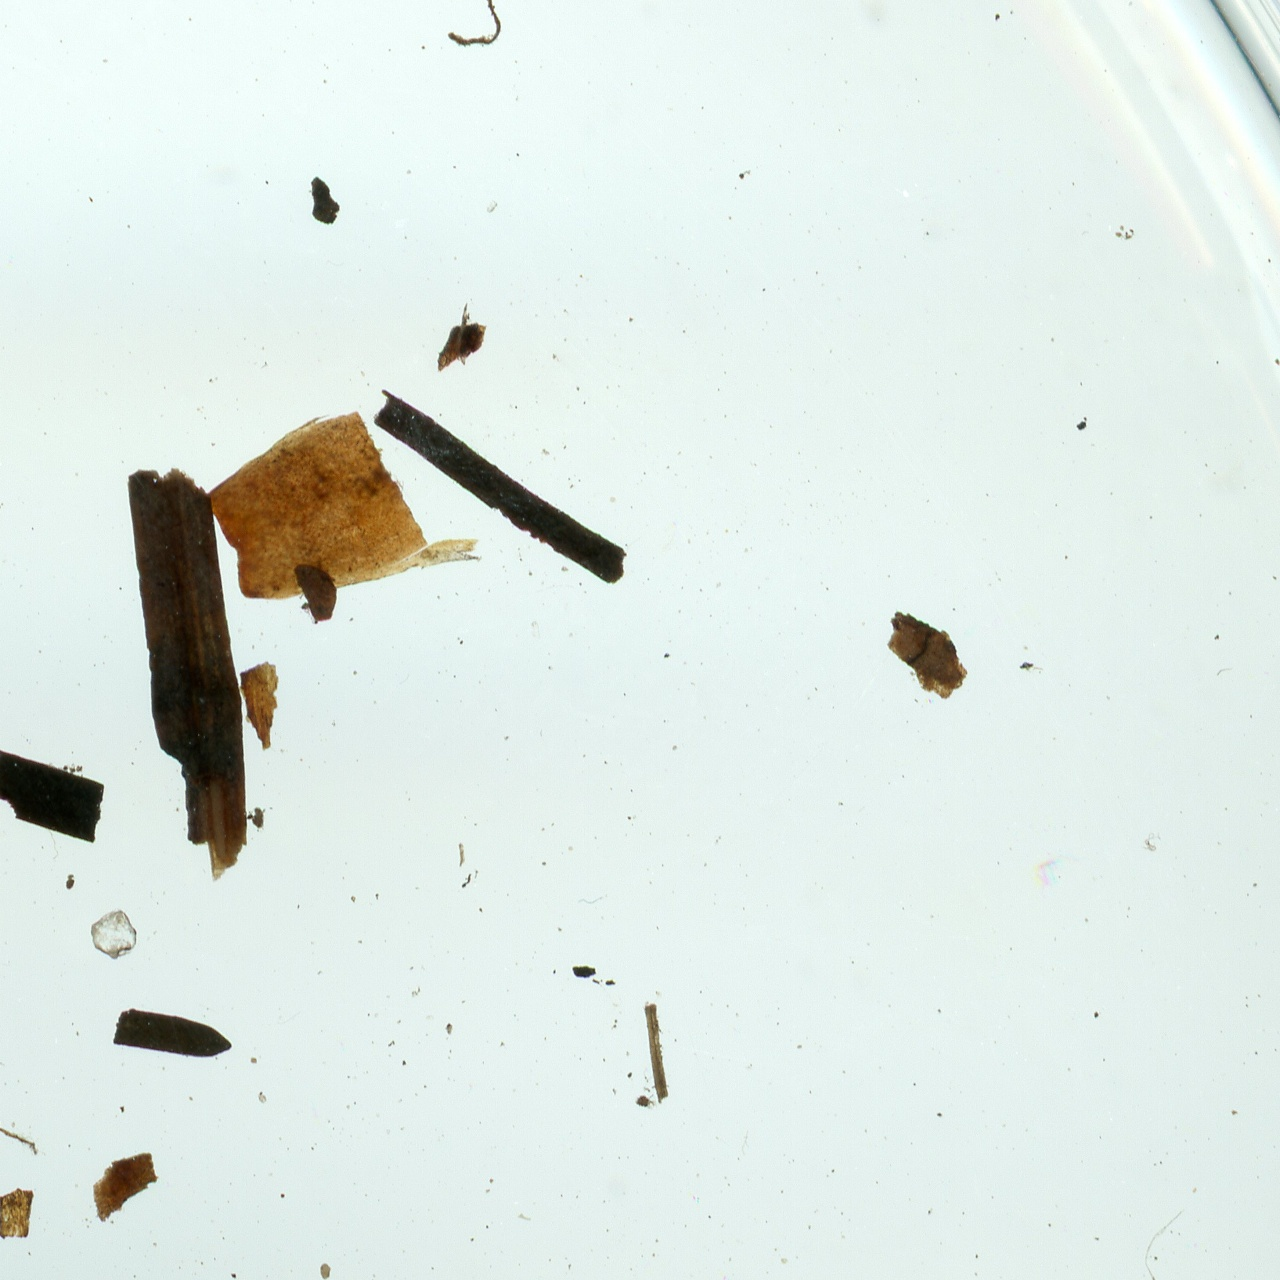arthropod: (424, 308, 496, 387)
